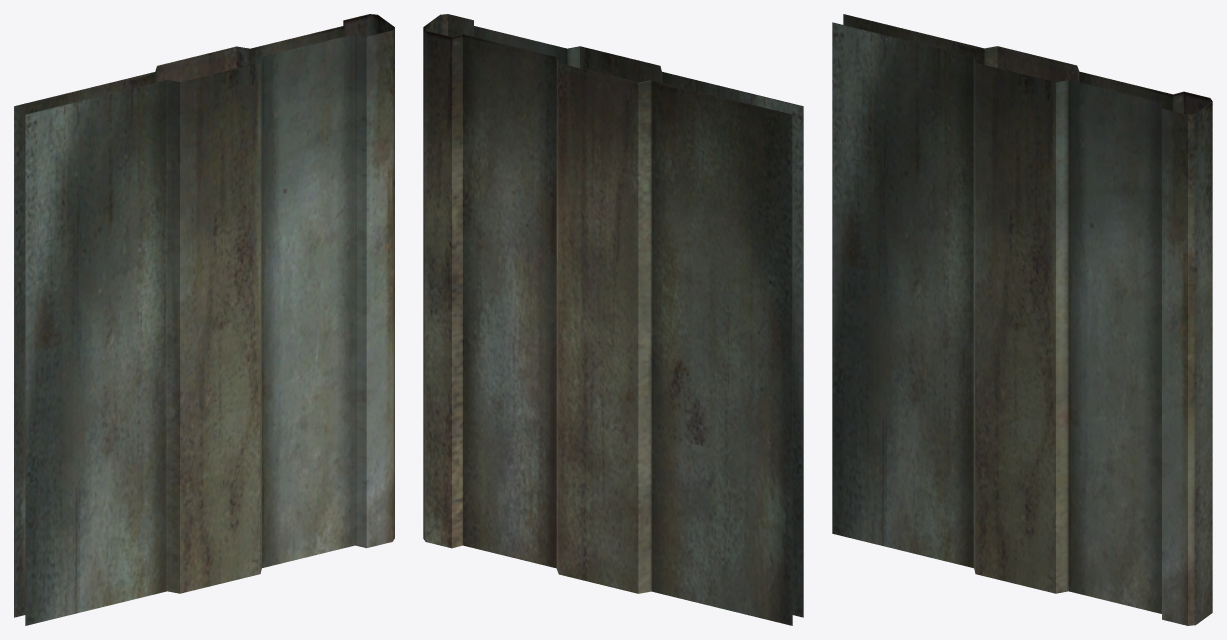
The model's file is thm_yavn_great_massassi_temple_door.fbx.
The picture shows the model from 3 angles, left to right: view 1: azimuth 30°, elevation 25°; view 2: azimuth 150°, elevation 25°; view 3: azimuth 330°, elevation 25°; orthographic projection.
Visible parts, largest first — view 1: mesh_node; view 2: mesh_node; view 3: mesh_node.
Part boxes in pixels (x1=…): mesh_node: x1=14, y1=14, x2=394, y2=625; mesh_node: x1=423, y1=14, x2=803, y2=625; mesh_node: x1=832, y1=14, x2=1212, y2=625.
Size of the model in its own units: 3.75 by 5 by 0.3999.
